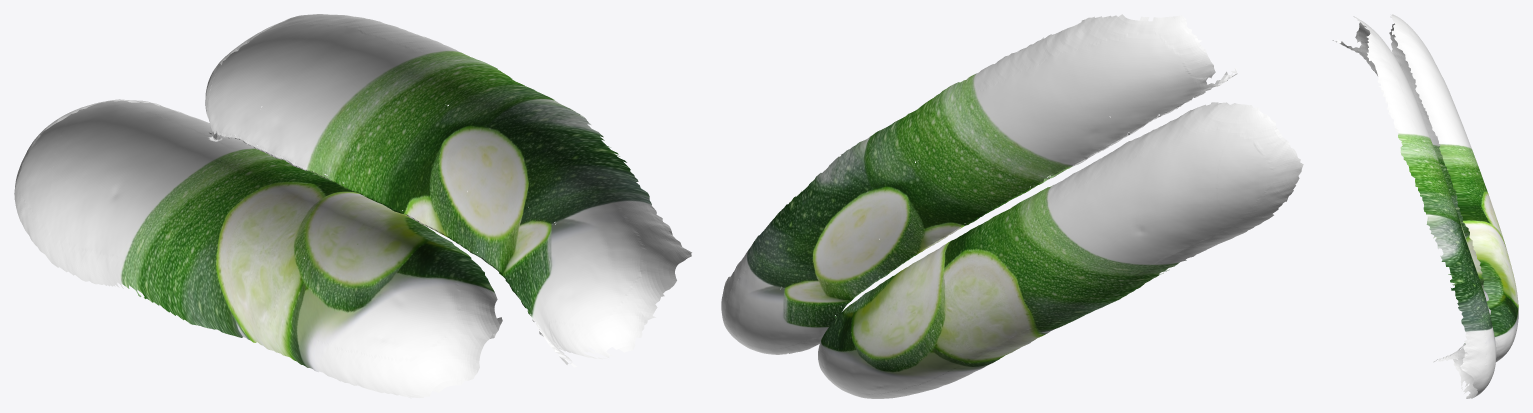
Rendered from cucumber.obj.
3 views of the same model, side by side, from view 1: azimuth 30°, elevation 25°; view 2: azimuth 150°, elevation 25°; view 3: azimuth 270°, elevation 25° (orthographic). The views are drawn at different scales.
Visible parts, largest first — view 1: 1; view 2: 1; view 3: 1.
Boxes of the visible parts, <box> form: 1: <box>14,14,691,398</box>; 1: <box>721,14,1303,398</box>; 1: <box>1332,14,1518,398</box>.
Size of the model in its own units: 0.5761 by 0.3867 by 0.244.
